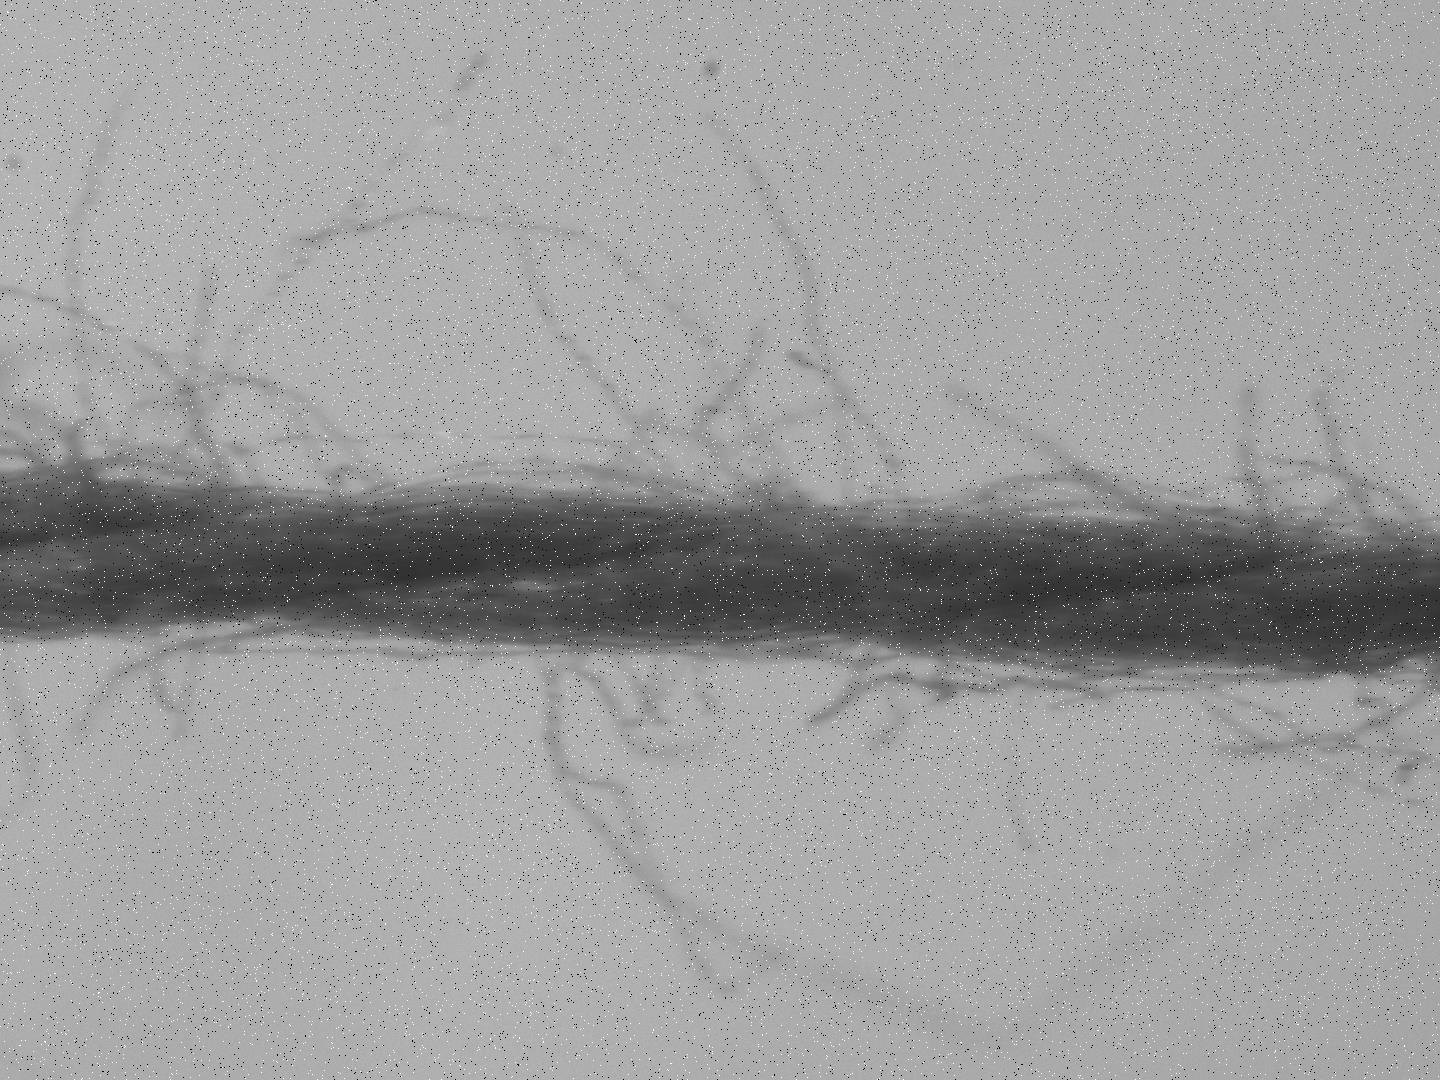protruding_fiber: (1010, 660, 1066, 858)
